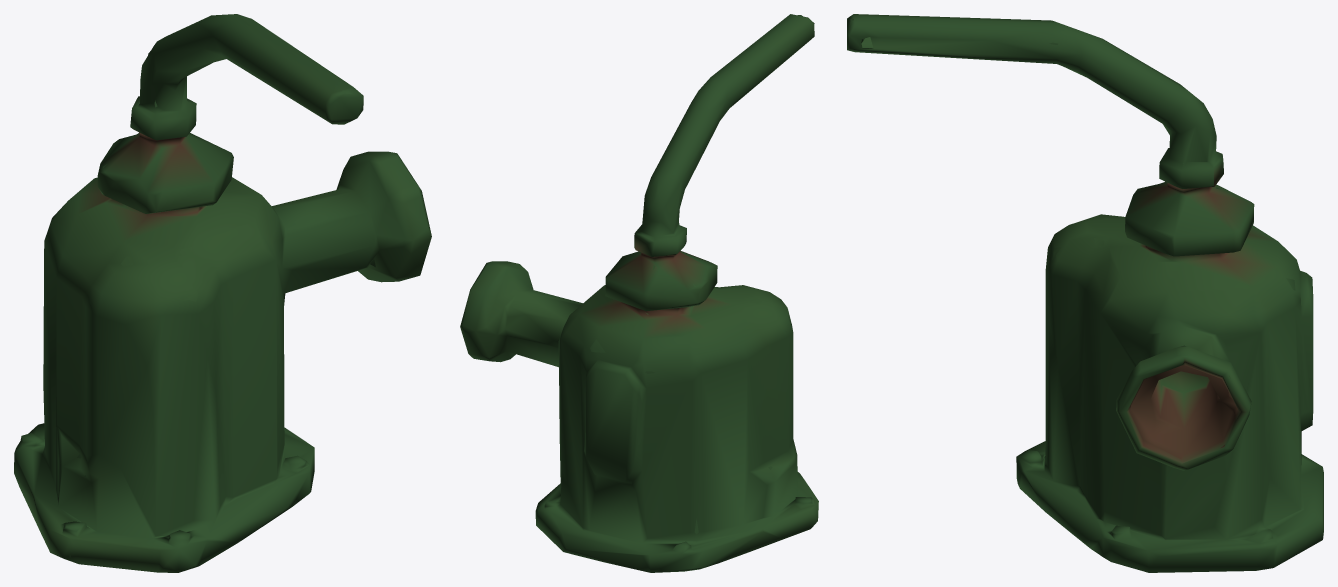
File: gen3d-water-pump-lod1.glb
3 renders of one model, left to right at view 1: azimuth 30°, elevation 25°; view 2: azimuth 150°, elevation 25°; view 3: azimuth 270°, elevation 25°, orthographic. The views are drawn at different scales.
Parts seen in each view (by area): view 1: part_0; view 2: part_0; view 3: part_0.
Boxes of the visible parts, box(x1,y1,x2,y2) form: part_0: box(14, 14, 431, 572); part_0: box(460, 14, 818, 572); part_0: box(847, 14, 1323, 572).
Bounding box in the file's own units: 0.7592 × 0.9997 × 0.8681.
